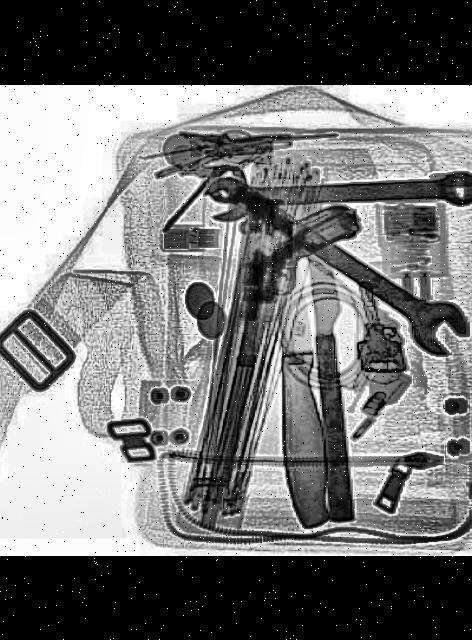Gun: (232, 193, 366, 373)
Knife: (296, 175, 368, 519), (262, 204, 335, 526)
Wrench: (191, 150, 472, 360), (203, 160, 472, 221)
